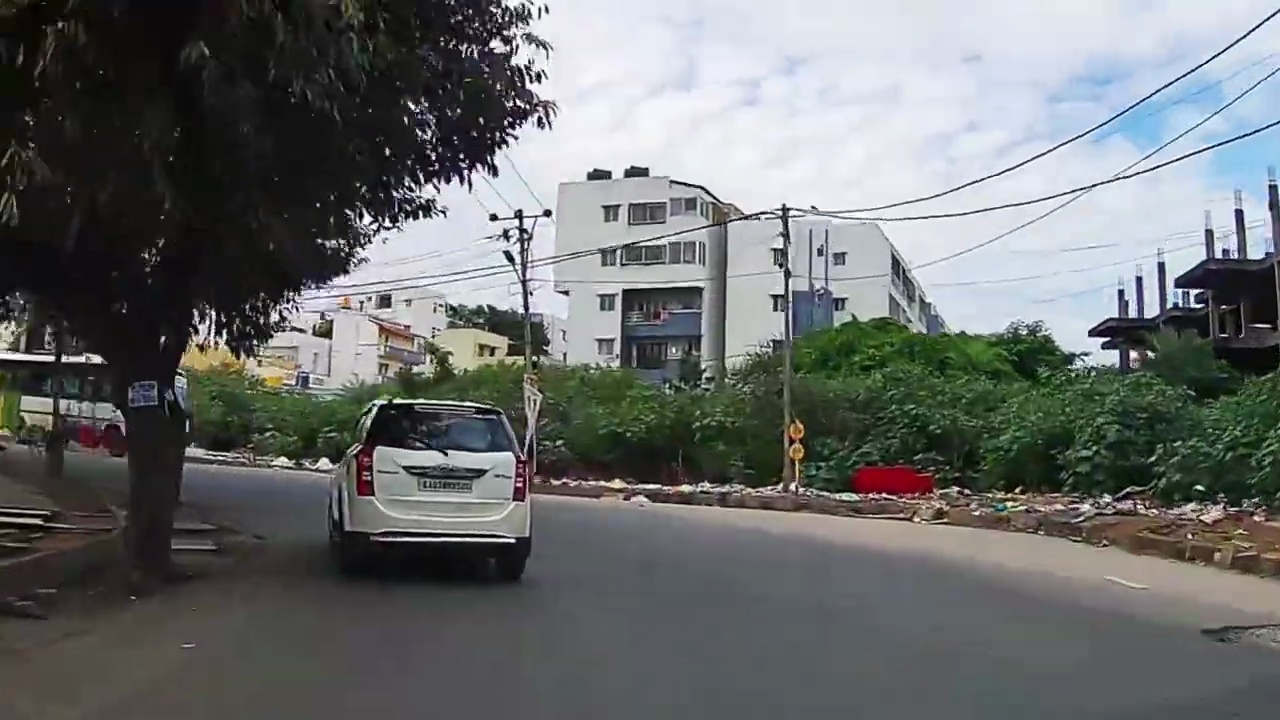garbage: (947, 482, 1203, 534), (646, 470, 767, 501)
